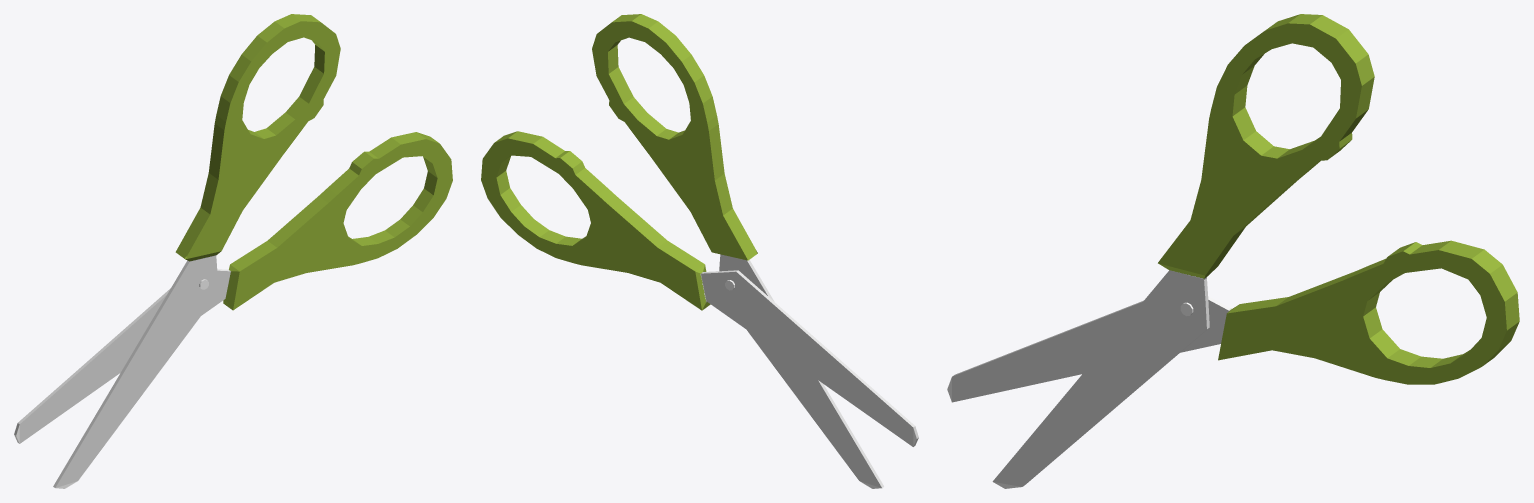
File: Fishbone.fbx
3 views of the same model, side by side, from view 1: azimuth 30°, elevation 25°; view 2: azimuth 150°, elevation 25°; view 3: azimuth 330°, elevation 25° (orthographic). The views are drawn at different scales.
Parts seen in each view (by area): view 1: scissor; view 2: scissor; view 3: scissor.
Boxes of the visible parts, x1=… form: scissor: x1=14, y1=14, x2=452, y2=488; scissor: x1=481, y1=14, x2=918, y2=488; scissor: x1=947, y1=14, x2=1519, y2=488.
Size of the model in its own units: 13.09 by 11.95 by 0.5612.
